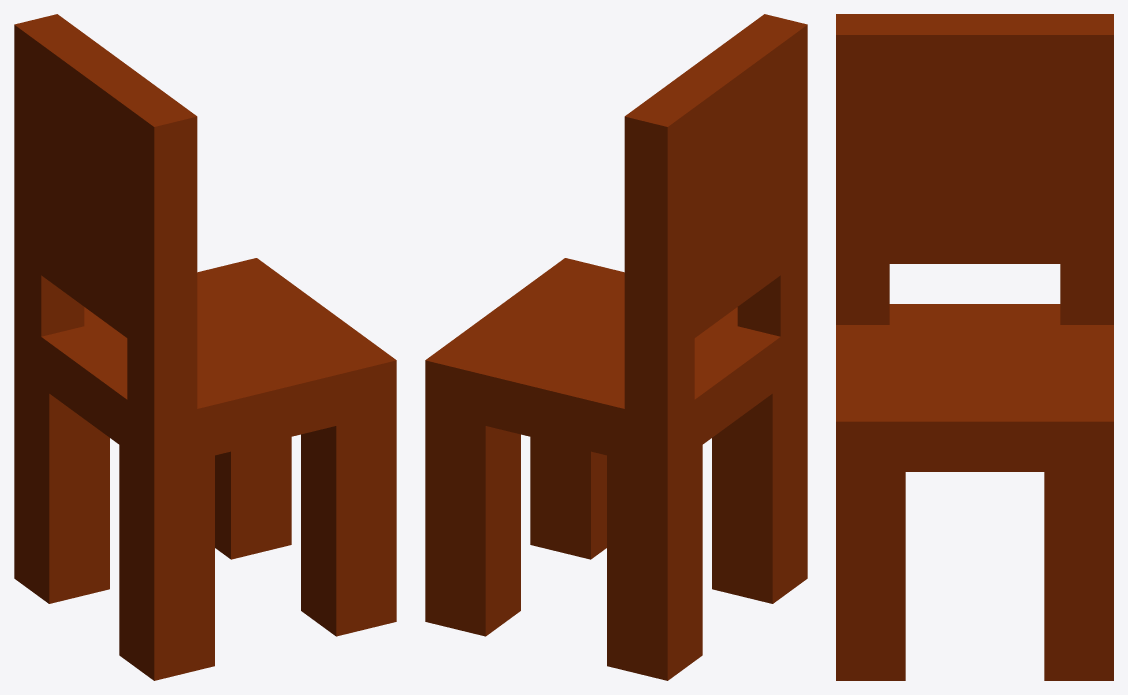
Rendered from Chair Model.fbx.
3 views of the same model, side by side, from view 1: azimuth 30°, elevation 25°; view 2: azimuth 150°, elevation 25°; view 3: azimuth 270°, elevation 25° (orthographic).
Visible parts, largest first — view 1: Cube; view 2: Cube; view 3: Cube.
Boxes of the visible parts, x1,y1,x2,y2 form: Cube: [14, 14, 396, 680]; Cube: [425, 14, 807, 680]; Cube: [836, 14, 1113, 680].
Bounding box in the file's own units: 42 × 91.63 × 42.
